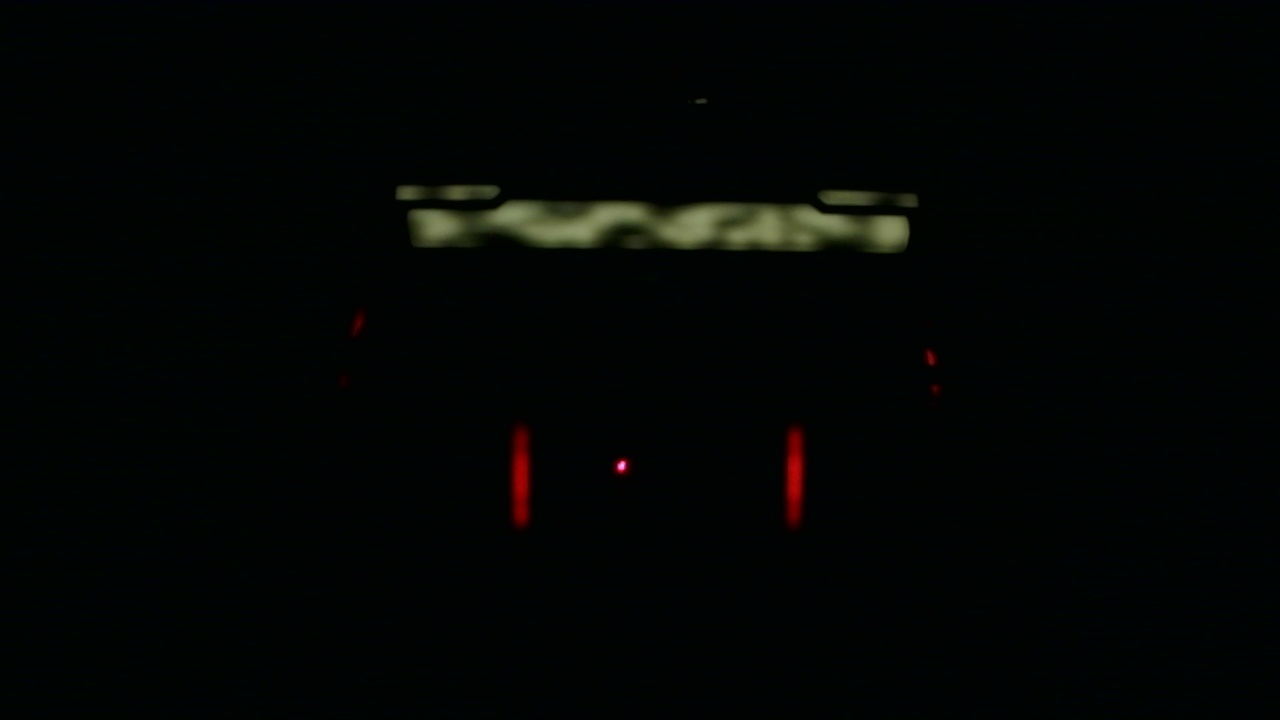lamp: (509, 424, 530, 530), (788, 423, 806, 530)
pair1: (510, 425, 807, 531)
